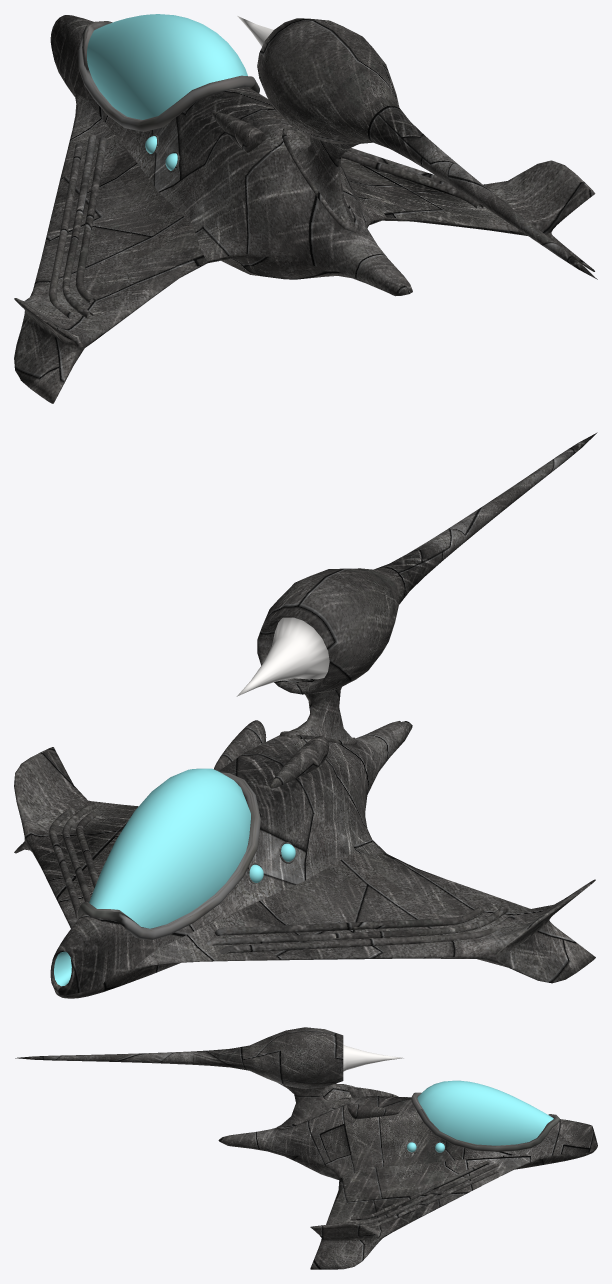
File: p1_wedge.fbx
3 views of the same model, one above another, from view 1: azimuth 30°, elevation 25°; view 2: azimuth 150°, elevation 25°; view 3: azimuth 270°, elevation 25° (orthographic). The views are drawn at different scales.
Visible parts, largest first — view 1: p1_wedge_geo1; view 2: p1_wedge_geo1; view 3: p1_wedge_geo1.
Part boxes in pixels (x1,y1,x2,y2): p1_wedge_geo1: (14, 14, 597, 403); p1_wedge_geo1: (14, 432, 597, 998); p1_wedge_geo1: (15, 1027, 597, 1269).
Size of the model in its own units: 1854 by 1007 by 3176.
Materials: 3 (1 with a texture image).
